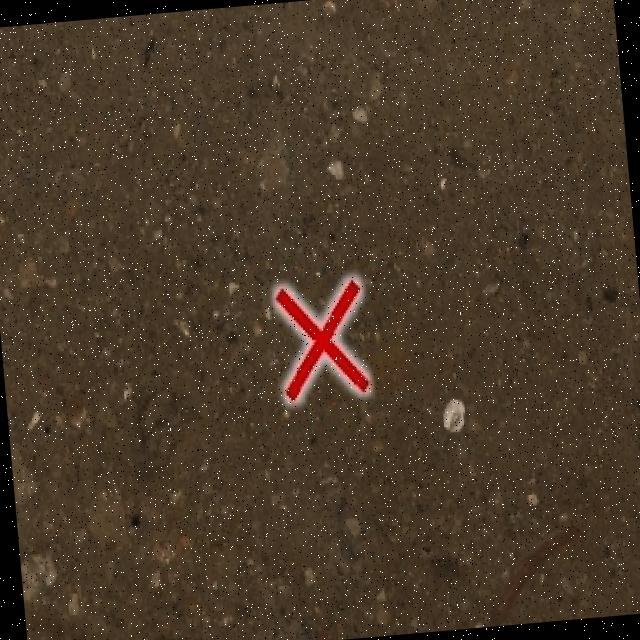x_marker: (274, 278, 368, 399)
